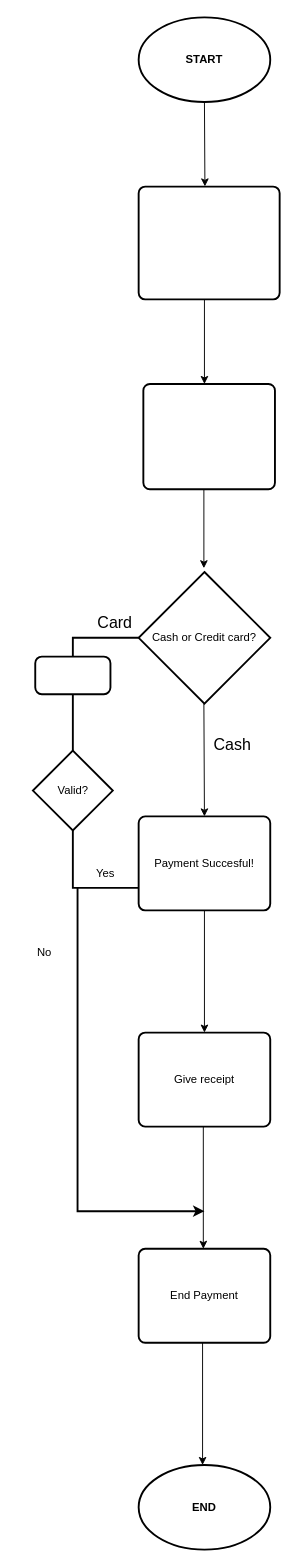
This 296x1566 diagram has some shape labels left out. Each missing label, with the box of its shape:
Inform customer of total: (142, 383, 275, 490)
Scan Card: (34, 655, 111, 695)
Scan items: (137, 185, 280, 300)
